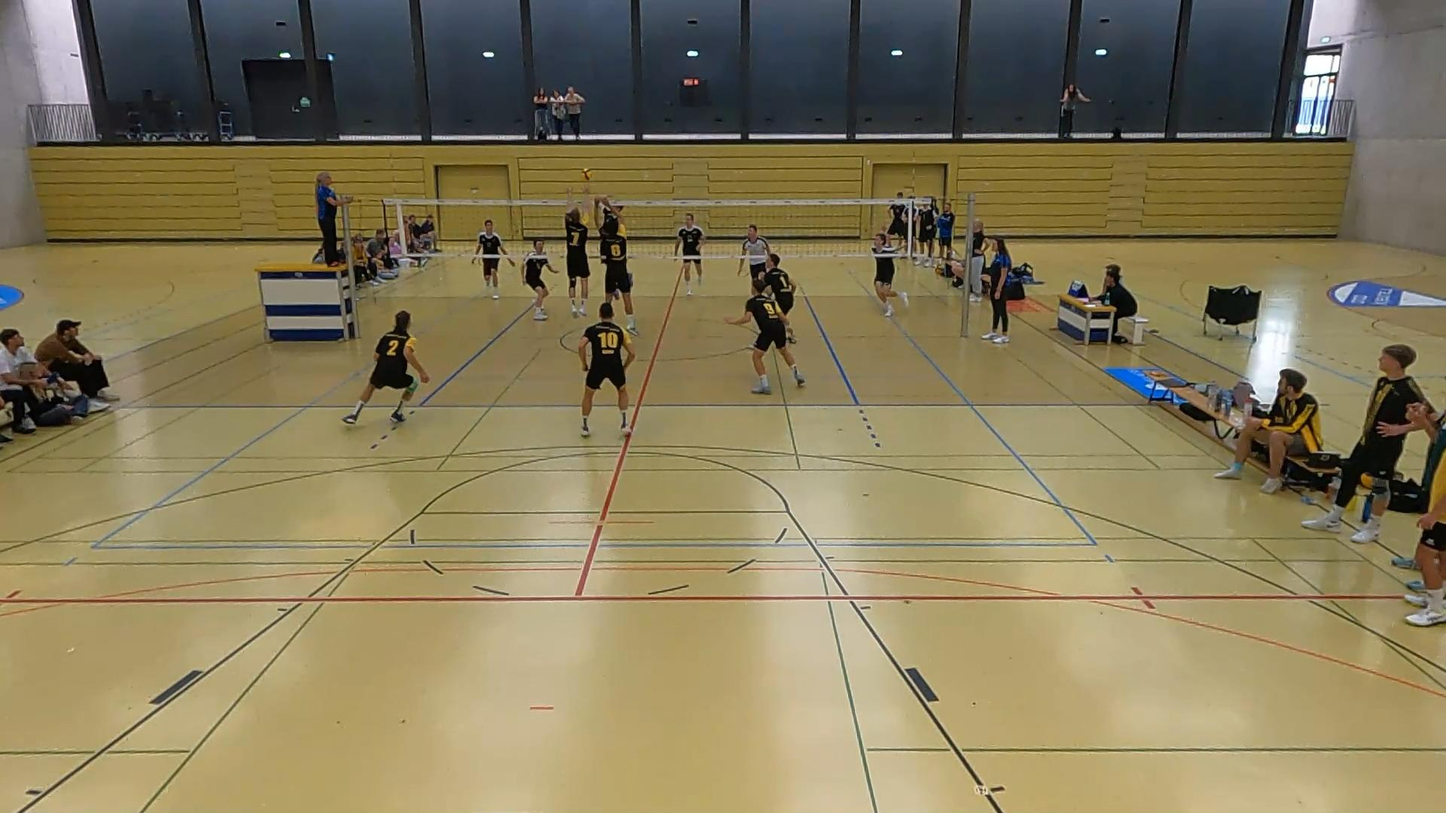attacco: (595, 198, 626, 231)
muro: (584, 193, 641, 336), (561, 183, 596, 324)
